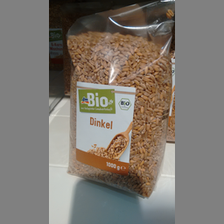cereal: (67, 31, 172, 197)
